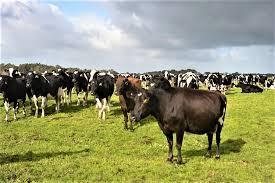cow: (129, 86, 228, 166), (21, 71, 59, 118), (114, 75, 142, 133), (0, 74, 27, 122), (90, 71, 115, 121), (51, 68, 74, 108), (69, 70, 91, 106), (235, 81, 263, 94), (178, 71, 199, 88), (204, 73, 220, 91), (219, 75, 232, 95), (3, 67, 26, 78), (162, 70, 175, 87), (138, 73, 153, 86)
